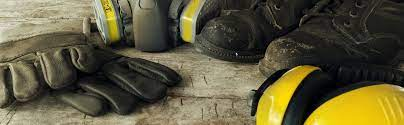gloves: (5, 32, 171, 120)
